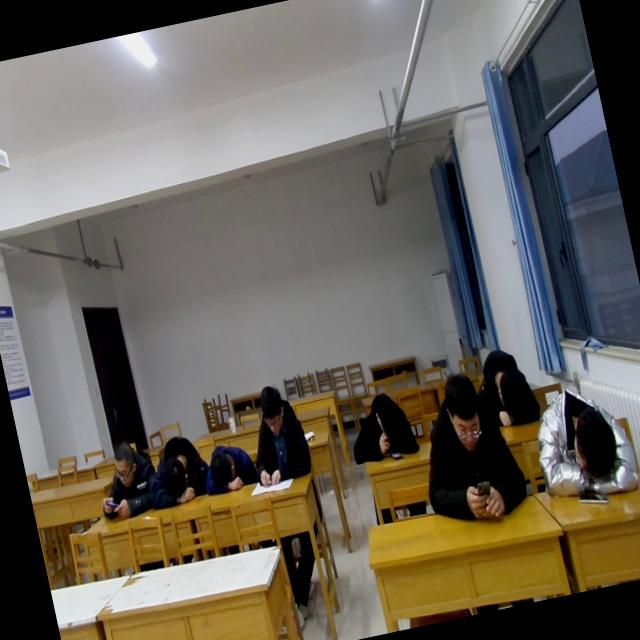bow: (522, 373, 640, 512), (85, 433, 165, 524), (468, 339, 544, 434), (138, 426, 218, 512), (340, 388, 420, 471), (198, 436, 264, 498)
down: (436, 364, 489, 452), (253, 378, 290, 439), (106, 436, 142, 488), (368, 390, 407, 438)
sit: (403, 362, 533, 533), (238, 377, 316, 489)
